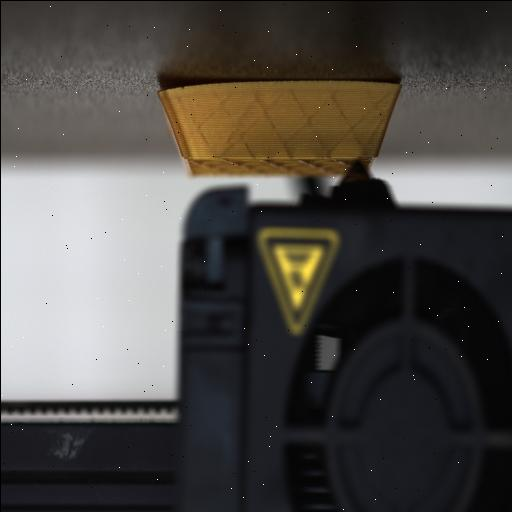warp: (150, 78, 196, 109)
